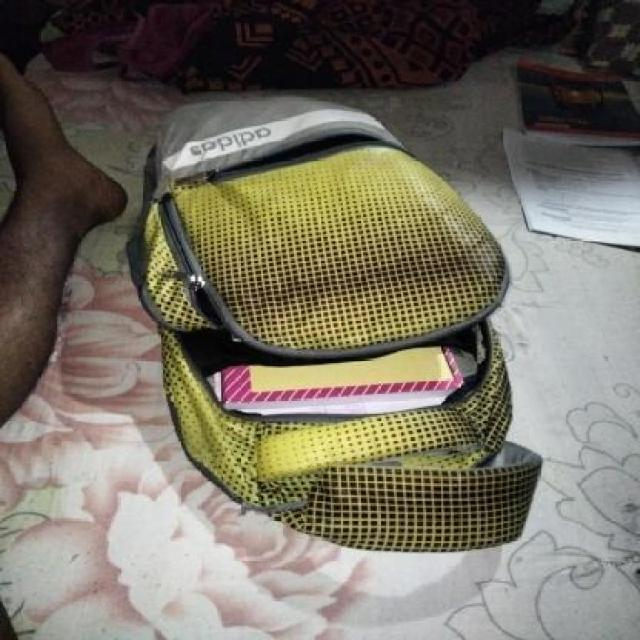backpack: (120, 92, 545, 557)
